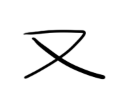nu: (19, 28, 107, 81)
